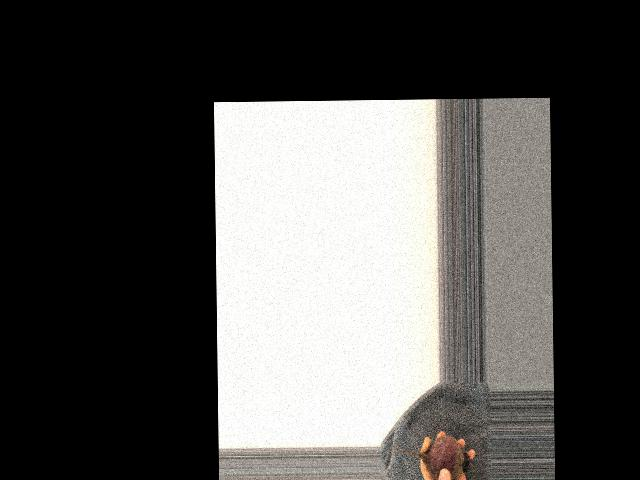beet: (390, 434, 468, 480)
